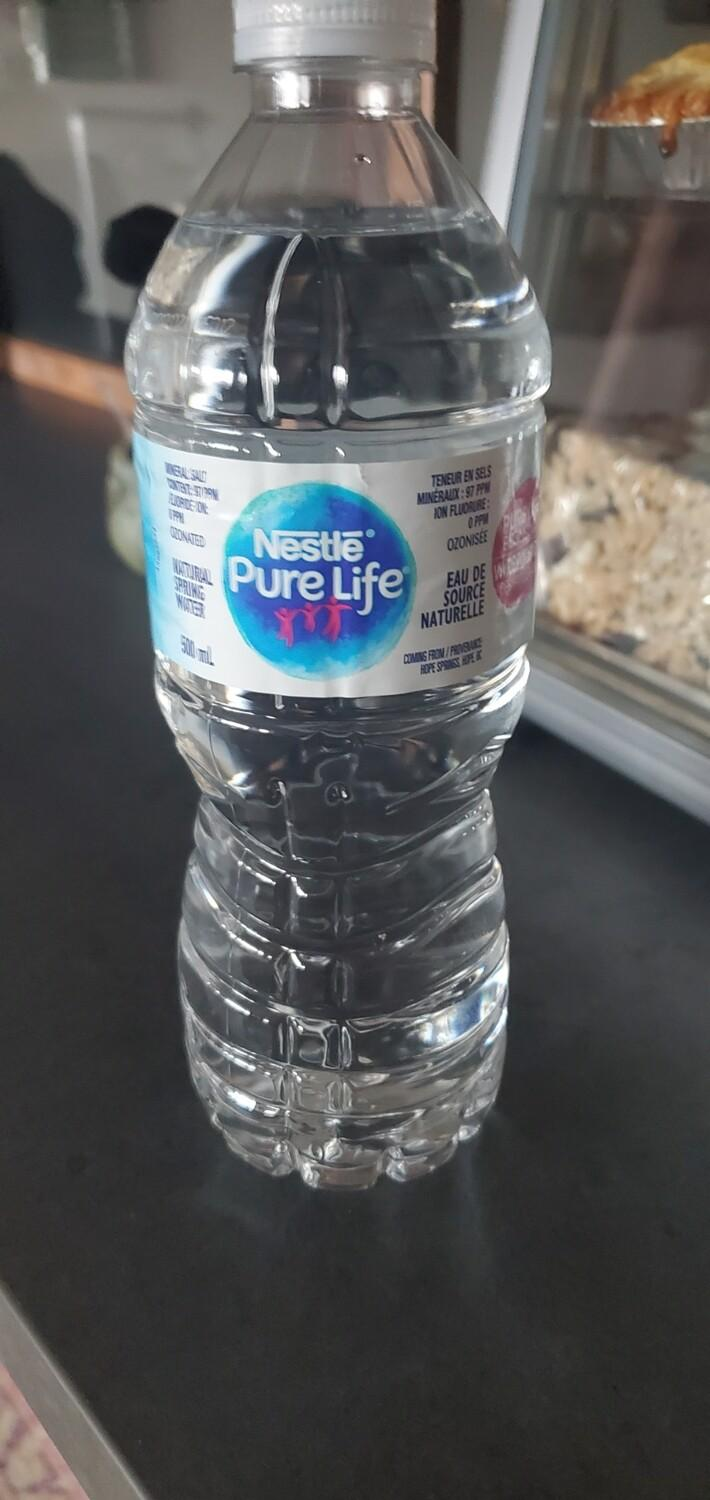plastic: (123, 16, 553, 1208)
